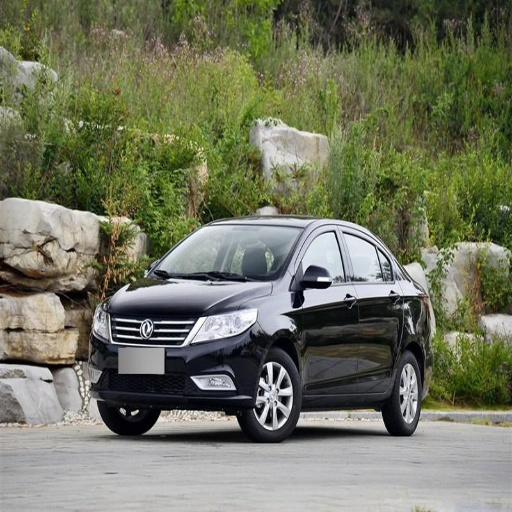front_bumper: (91, 306, 263, 408)
front_glass: (152, 226, 303, 280)
front_left_door: (295, 226, 357, 396)
